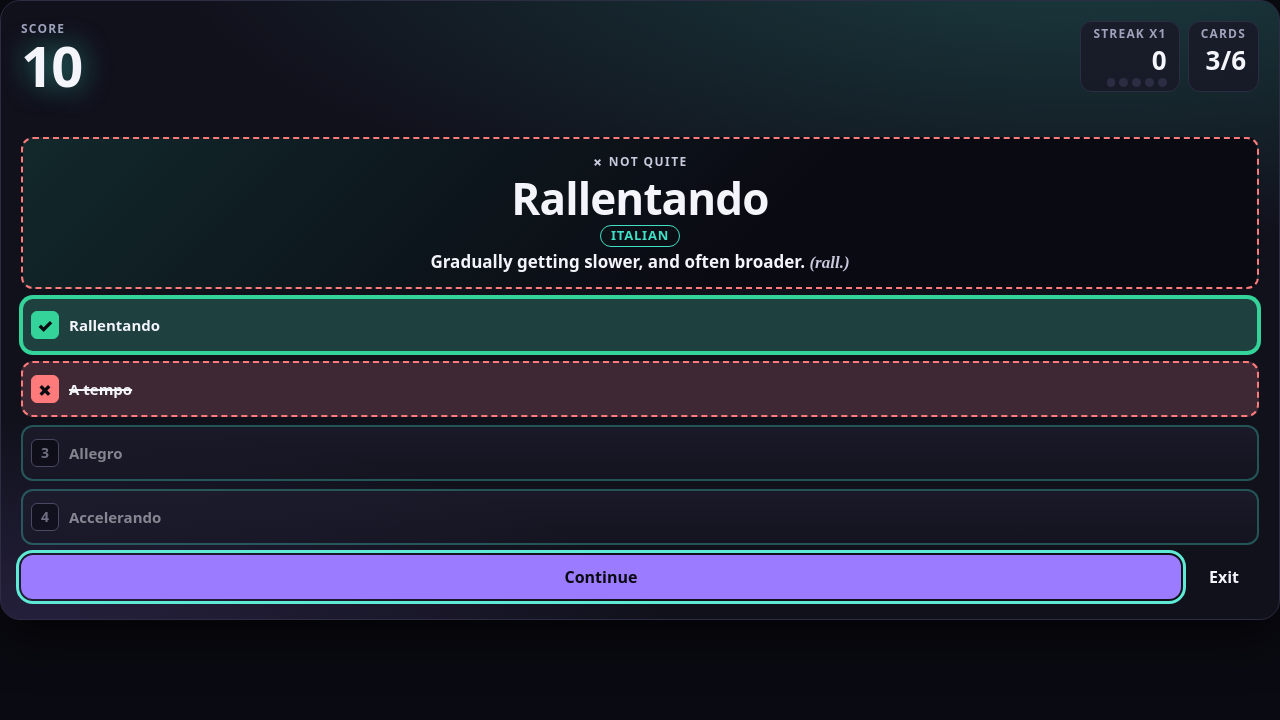
it: untimed round by pointer: start -> play -> reveal -> results › plays six cards with a wrong one, and shows the results
Earlier steps of the test are not shown.
Later steps or results of the test are not shown.
Expected: the text with test id "tb-score" reads "10", [21,27,82,103]
Expected: the text with test id "tb-streak" reads "0", [1152,42,1167,78]
Click the button "✓ Rallentando" at (115, 325), box [21,297,1259,353]
Expected: the text with test id "tb-score" reads "10", [21,27,82,103]
Click the button "Continue" at (601, 577), box [21,555,1181,599]
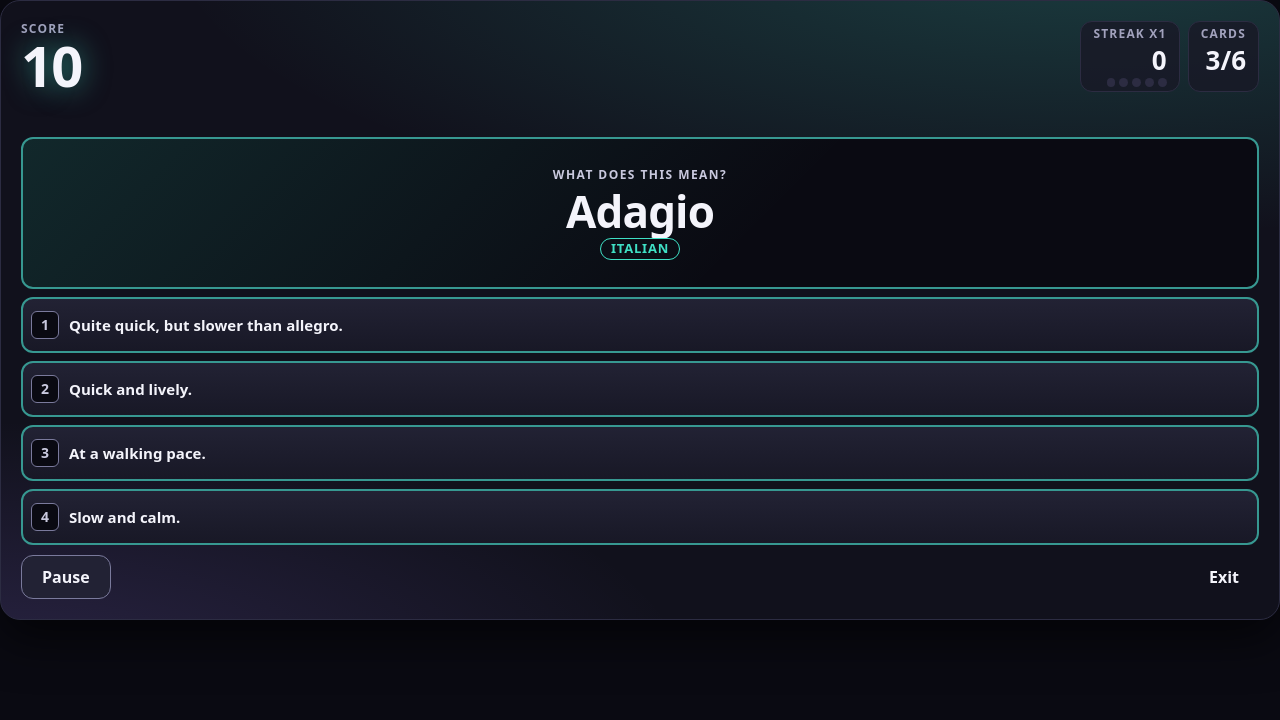
Click the button "4 Slow and calm." at (125, 517), box [21,489,1259,545]
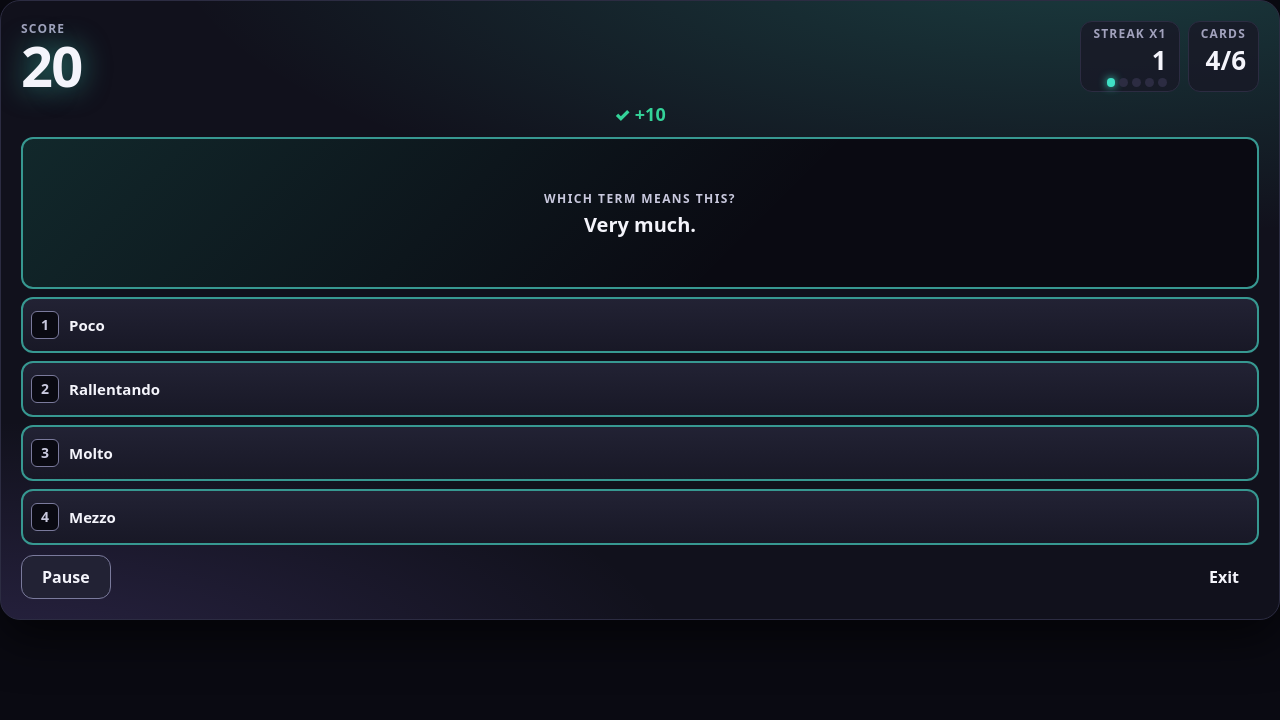
Click the button "3 Molto" at (91, 453), box [21,425,1259,481]
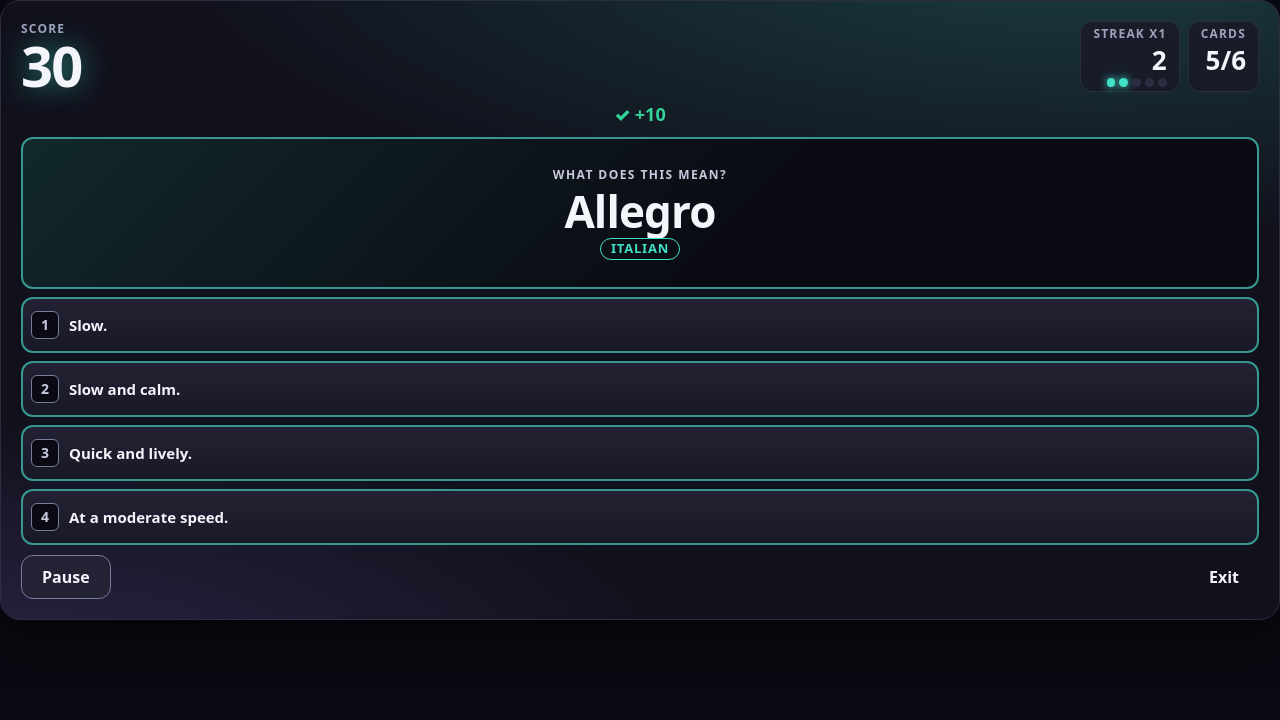
Click the button "3 Quick and lively." at (130, 453), box [21,425,1259,481]
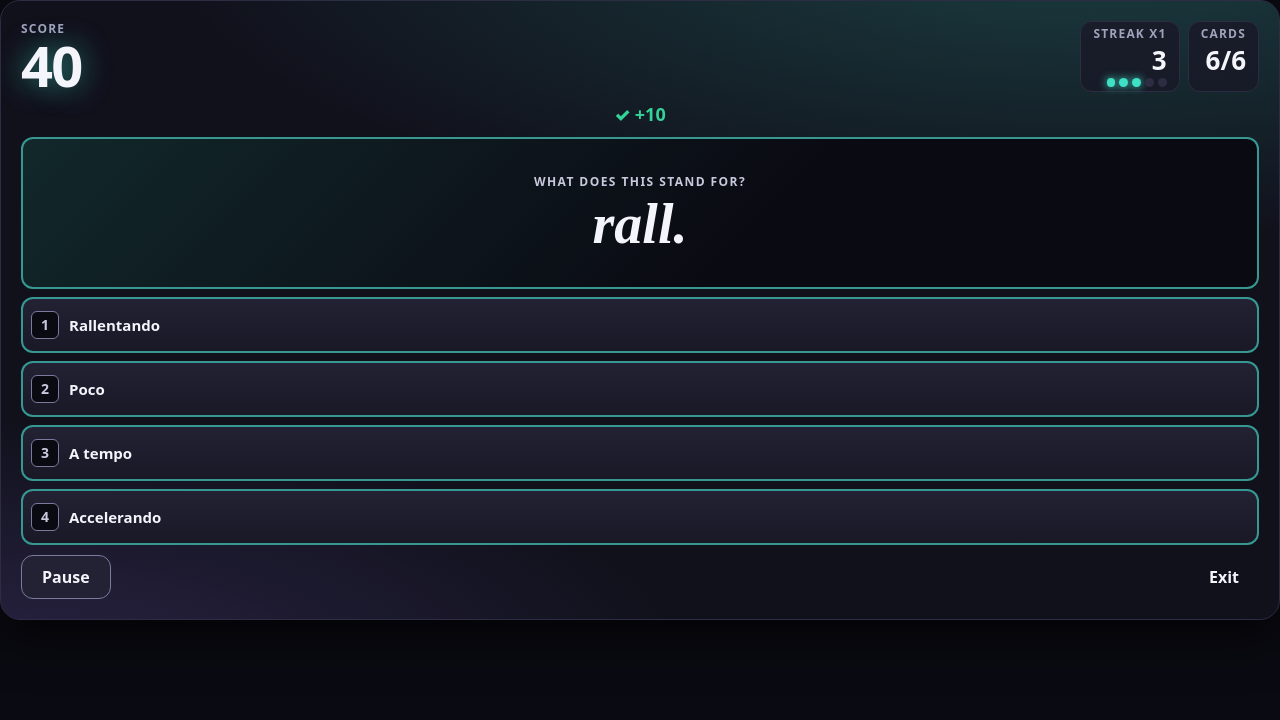
Now the text with class "tb-kicker" reads "What does this stand for?", box [534,173,746,190]
Click the button "1 Rallentando" at (115, 325), box [21,297,1259,353]
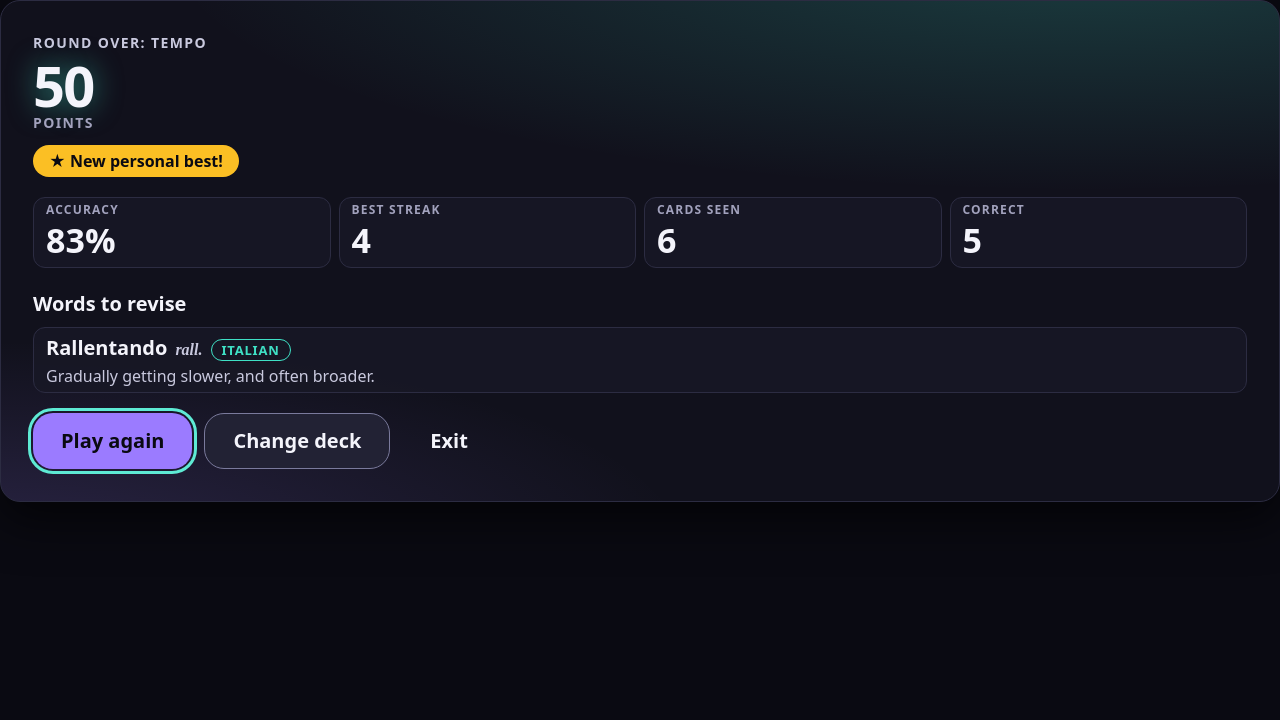
Now the element "Answers" is gone
Now the text with test id "tb-final-score" reads "50", box [33,47,94,123]
Now the text "83%" is shown, box [46,217,116,263]
Click the button "Play again" at (113, 440), box [33,412,192,468]
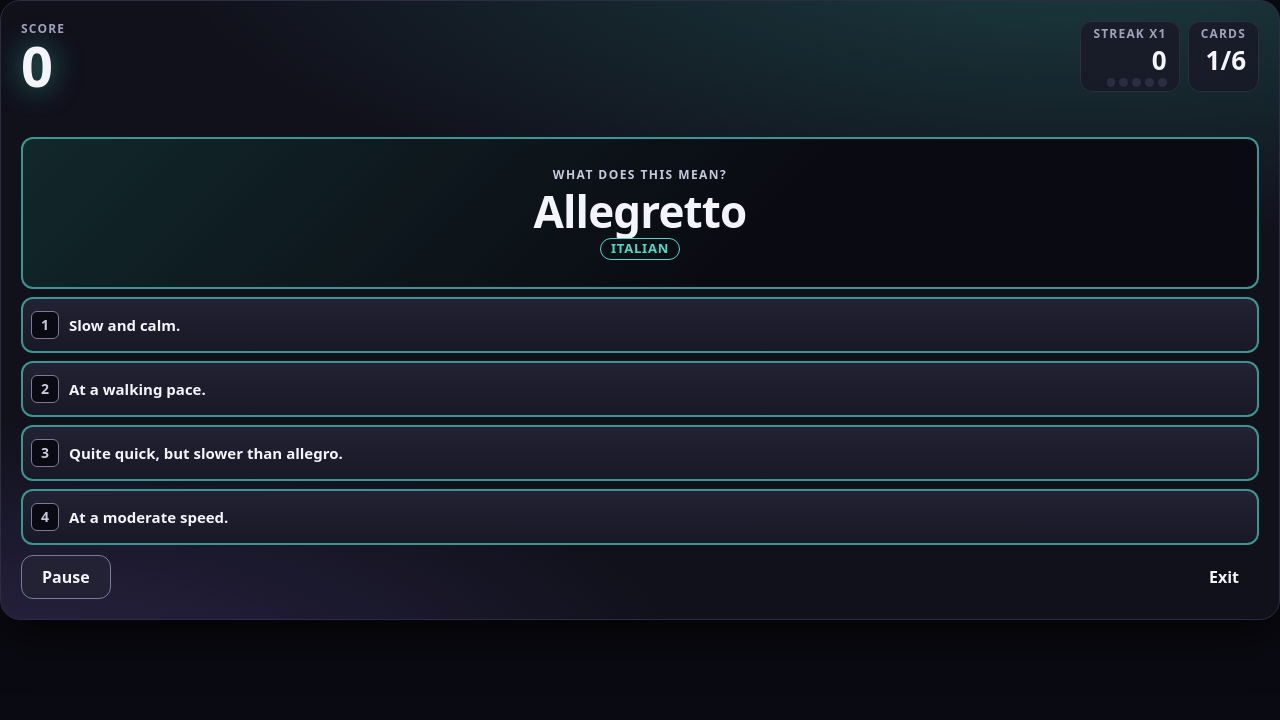
Now the text with test id "tb-progress" reads "1/6", box [1201,42,1246,78]
Now the text with test id "tb-score" reads "0", box [21,27,51,103]
